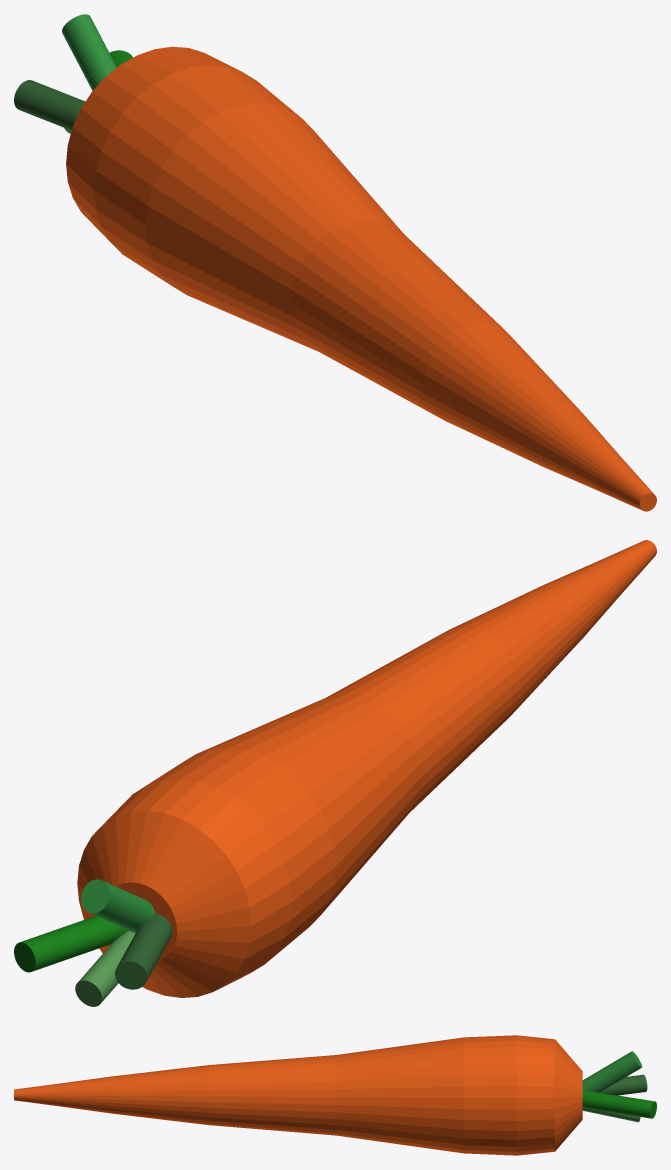
Rendered from wortel.fbx.
3 renders of one model, top to bottom at view 1: azimuth 30°, elevation 25°; view 2: azimuth 150°, elevation 25°; view 3: azimuth 270°, elevation 25°, orthographic. The views are drawn at different scales.
Visible parts, largest first — view 1: Cylinder, Cylinder.004, Cylinder.003; view 2: Cylinder, Cylinder.001, Cylinder.003, Cylinder.004, Cylinder.002; view 3: Cylinder, Cylinder.001, Cylinder.004, Cylinder.003, Cylinder.002.
Boxes of the visible parts, left/top/right/bottom form: Cylinder: left=66, top=46, right=656, bottom=511; Cylinder.004: left=62, top=14, right=116, bottom=90; Cylinder.003: left=14, top=80, right=85, bottom=130; Cylinder: left=77, top=540, right=656, bottom=997; Cylinder.001: left=14, top=916, right=128, bottom=972; Cylinder.003: left=115, top=913, right=172, bottom=989; Cylinder.004: left=81, top=879, right=155, bottom=932; Cylinder.002: left=75, top=930, right=135, bottom=1006; Cylinder: left=14, top=1035, right=582, bottom=1155; Cylinder.001: left=582, top=1090, right=656, bottom=1118; Cylinder.004: left=582, top=1051, right=642, bottom=1092; Cylinder.003: left=600, top=1074, right=647, bottom=1095; Cylinder.002: left=582, top=1108, right=640, bottom=1122.
Size of the model in its own units: 45.5 by 45.5 by 243.
